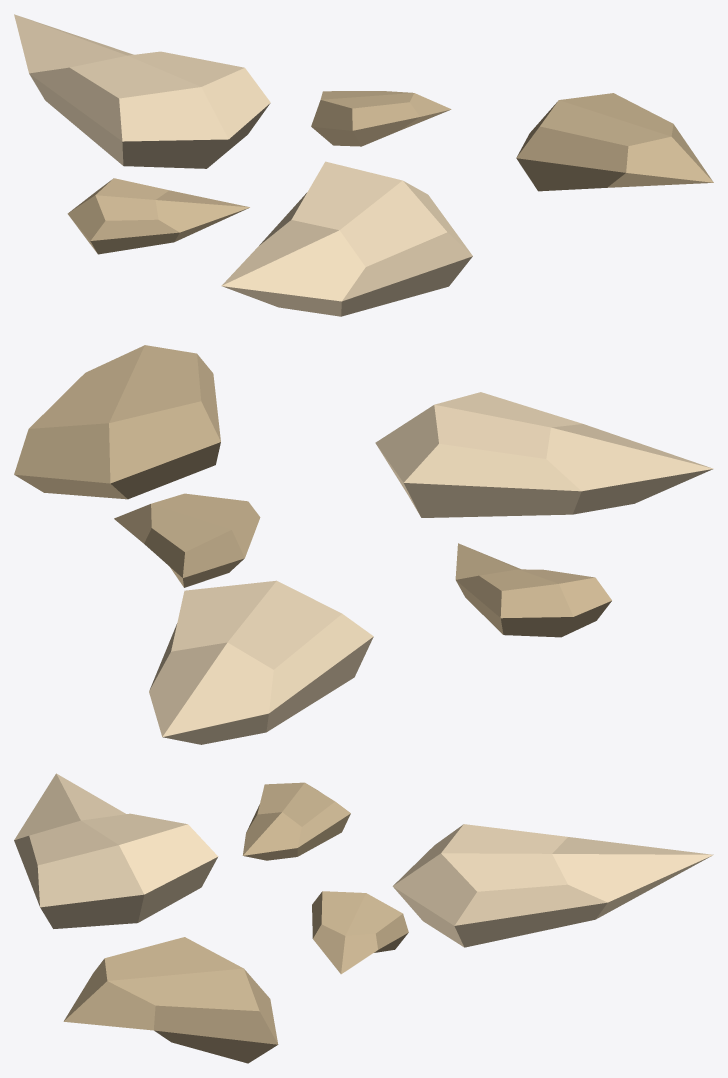
Rendered from Bone_Fragments_3__0.glb.
The picture shows the model from 3 angles, top to bottom: view 1: azimuth 30°, elevation 25°; view 2: azimuth 150°, elevation 25°; view 3: azimuth 270°, elevation 25°; orthographic projection. The views are drawn at different scales.
Visible parts, largest first — view 1: Bone_Fragments_3__0; view 2: Bone_Fragments_3__0; view 3: Bone_Fragments_3__0.
Part boxes in pixels (bbox=[...]): Bone_Fragments_3__0: bbox=[14, 14, 713, 316]; Bone_Fragments_3__0: bbox=[14, 345, 713, 744]; Bone_Fragments_3__0: bbox=[14, 773, 713, 1063].
Bounding box in the file's own units: 0.2765 × 0.0496 × 0.3338.
1 material, 1 textured.
